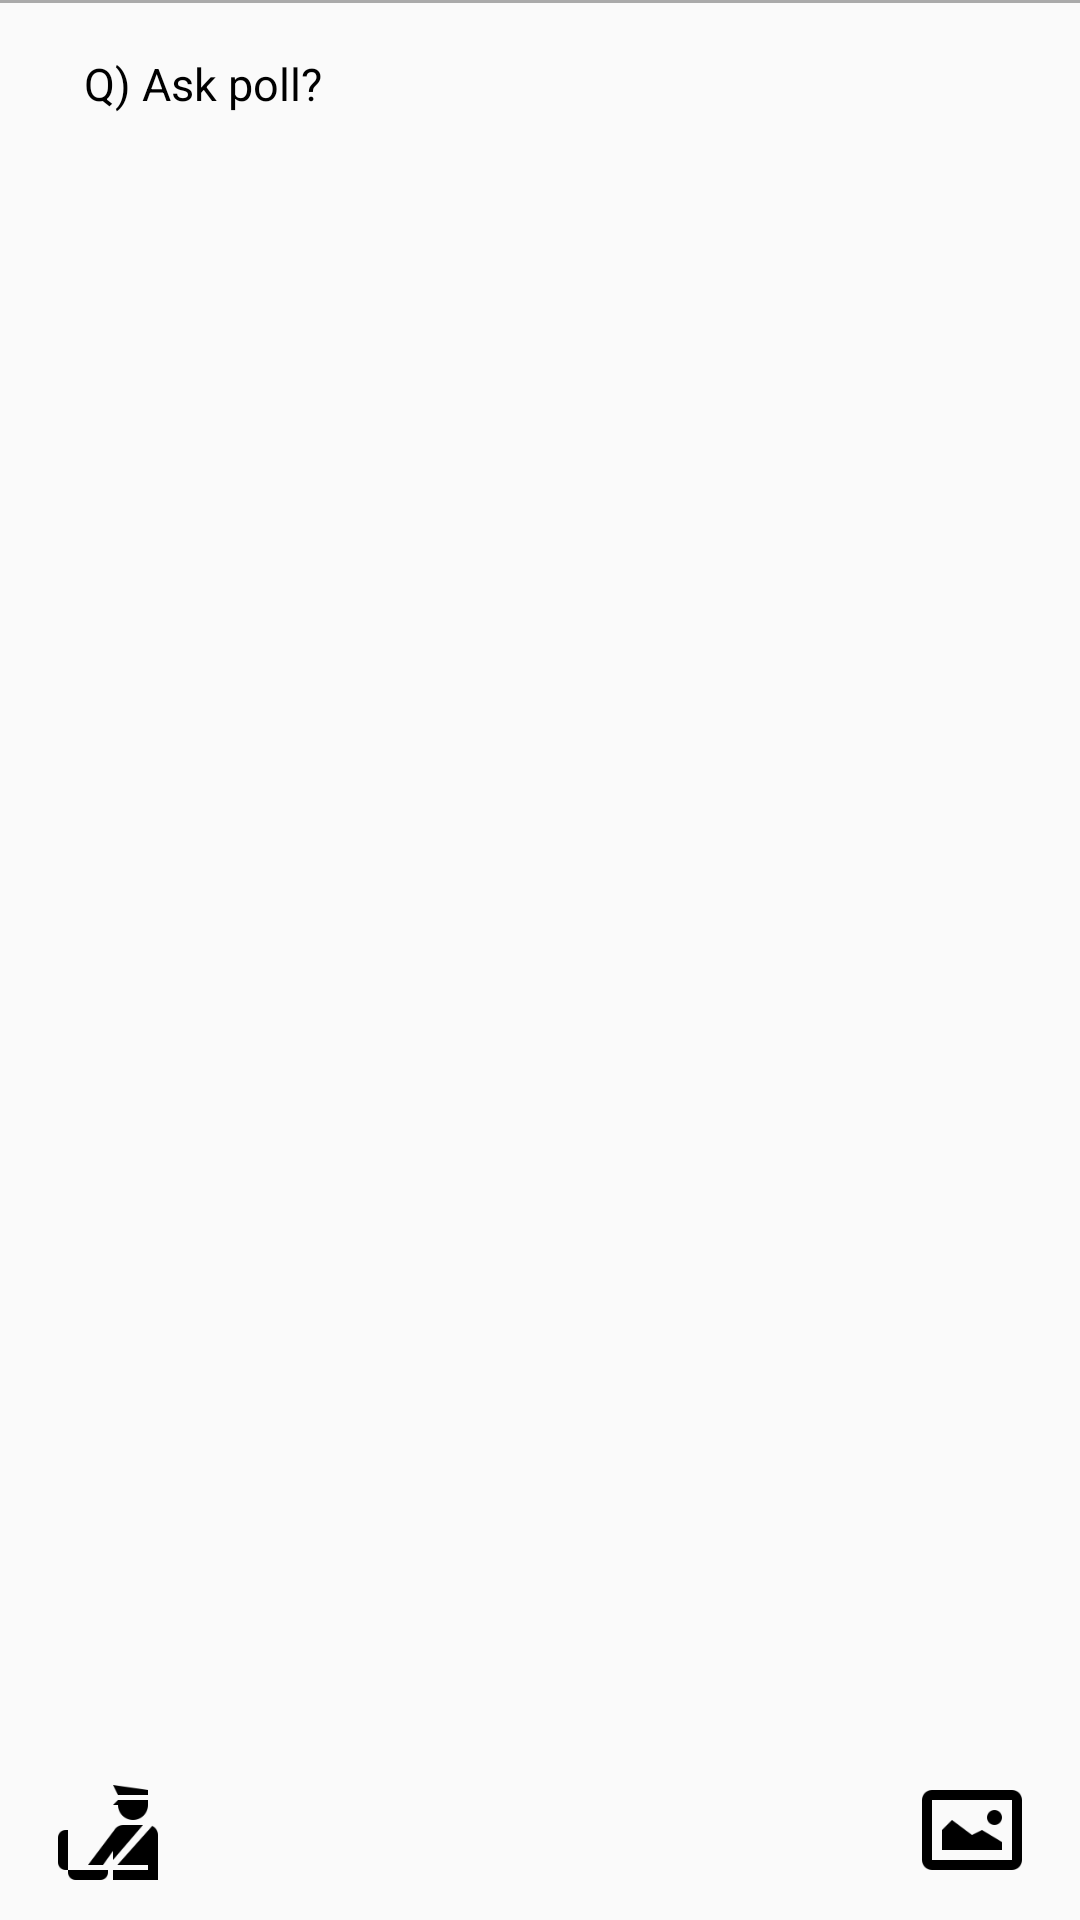

Where icons sit on this 1080px×1920px app screen, as (x1, y1, x2, y2):
customs: (58, 1785, 158, 1880)
gallery: (922, 1790, 1022, 1870)
